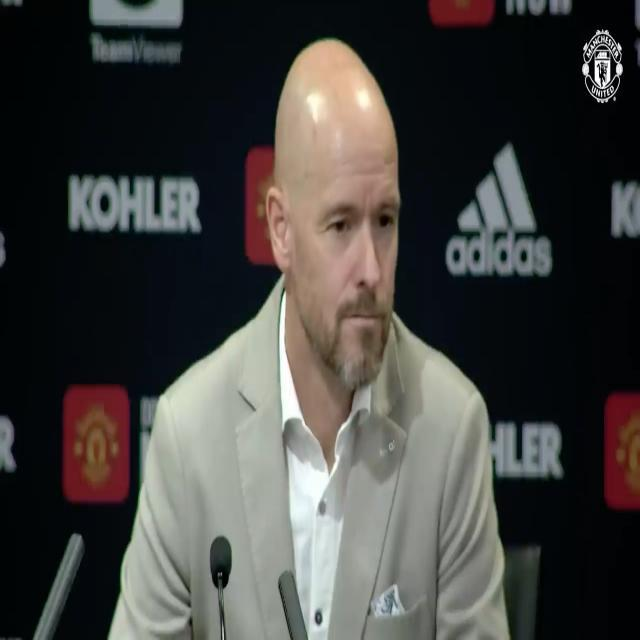Adidas: (443, 141, 555, 278)
Kohler: (68, 175, 200, 235)
TeamViewer: (91, 1, 182, 65)
